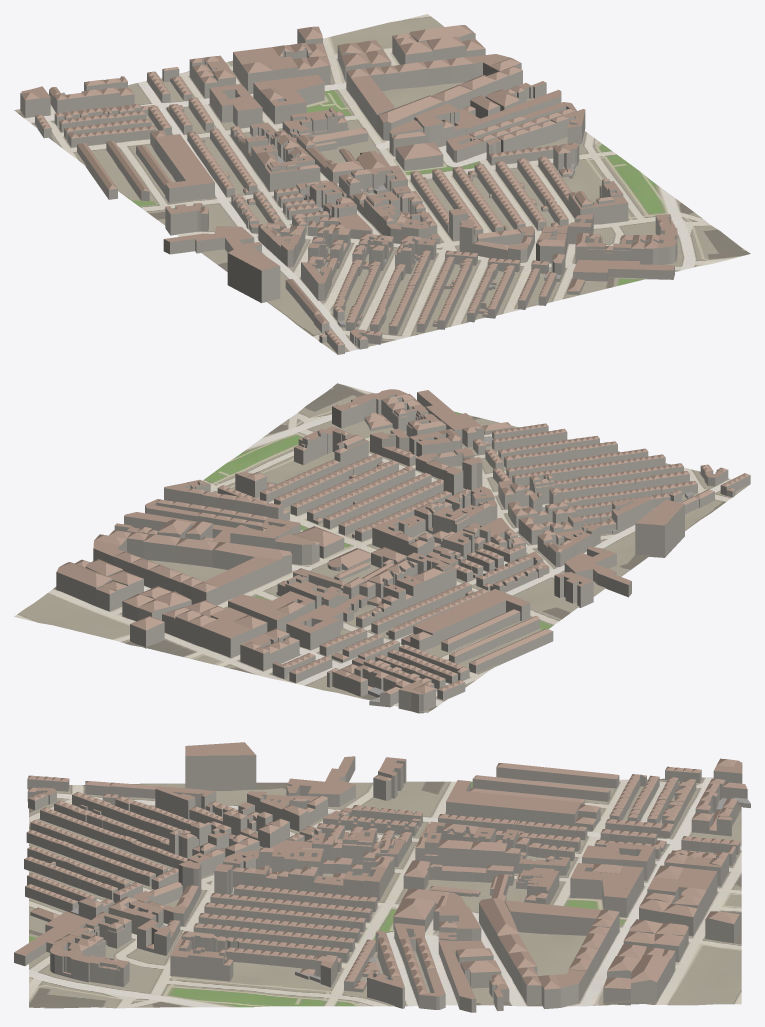
3 views of the same model, one above another, from view 1: azimuth 30°, elevation 25°; view 2: azimuth 150°, elevation 25°; view 3: azimuth 270°, elevation 25° (orthographic). The views are drawn at different scales.
Bounding box in the file's own units: 491 × 35.84 × 631.
Materials: 2 (1 with a texture image).
